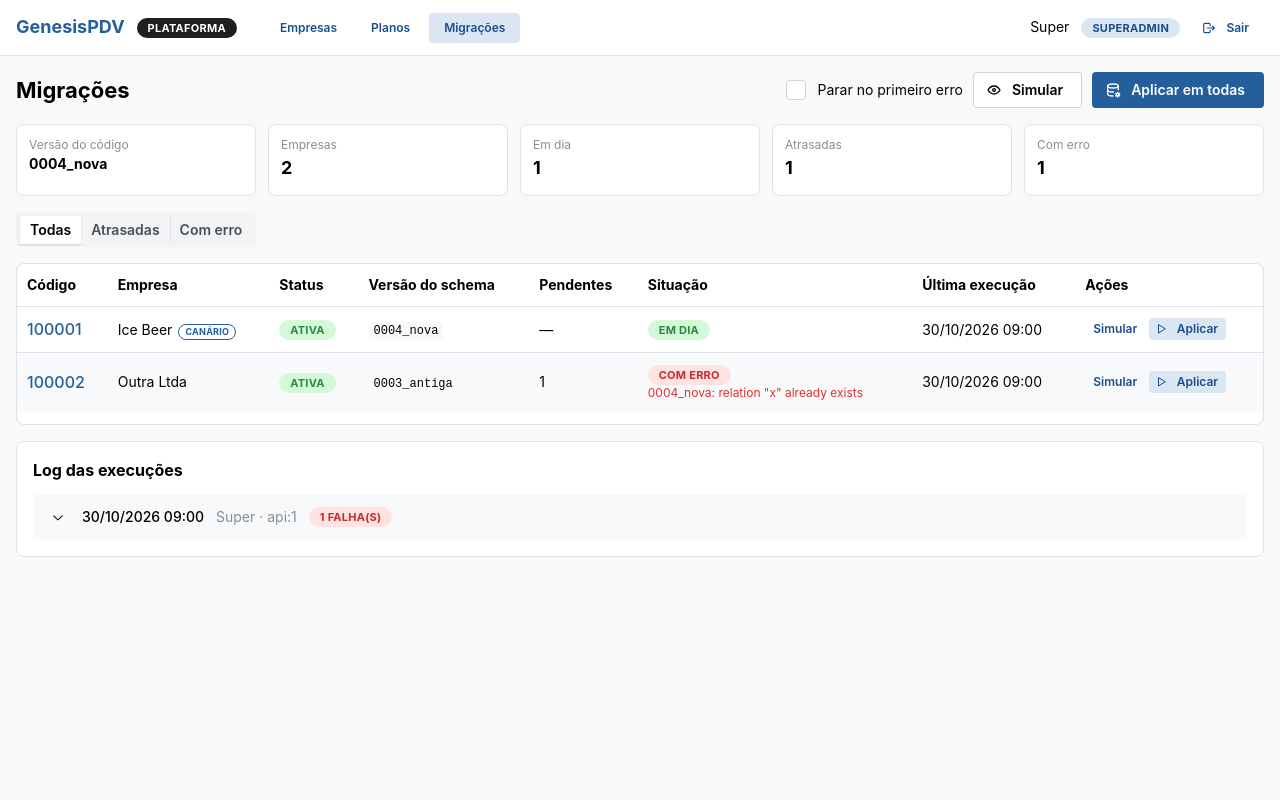
Test: painel › Migrações (ERP 19.7) › Aplicar em uma empresa confirma, envia o código e mostra o resultado
The width and height of the screenshot is (1280, 800).
Click the button with aria-label "Aplicar em 100002" at (1188, 382), box [1149,371,1226,393]
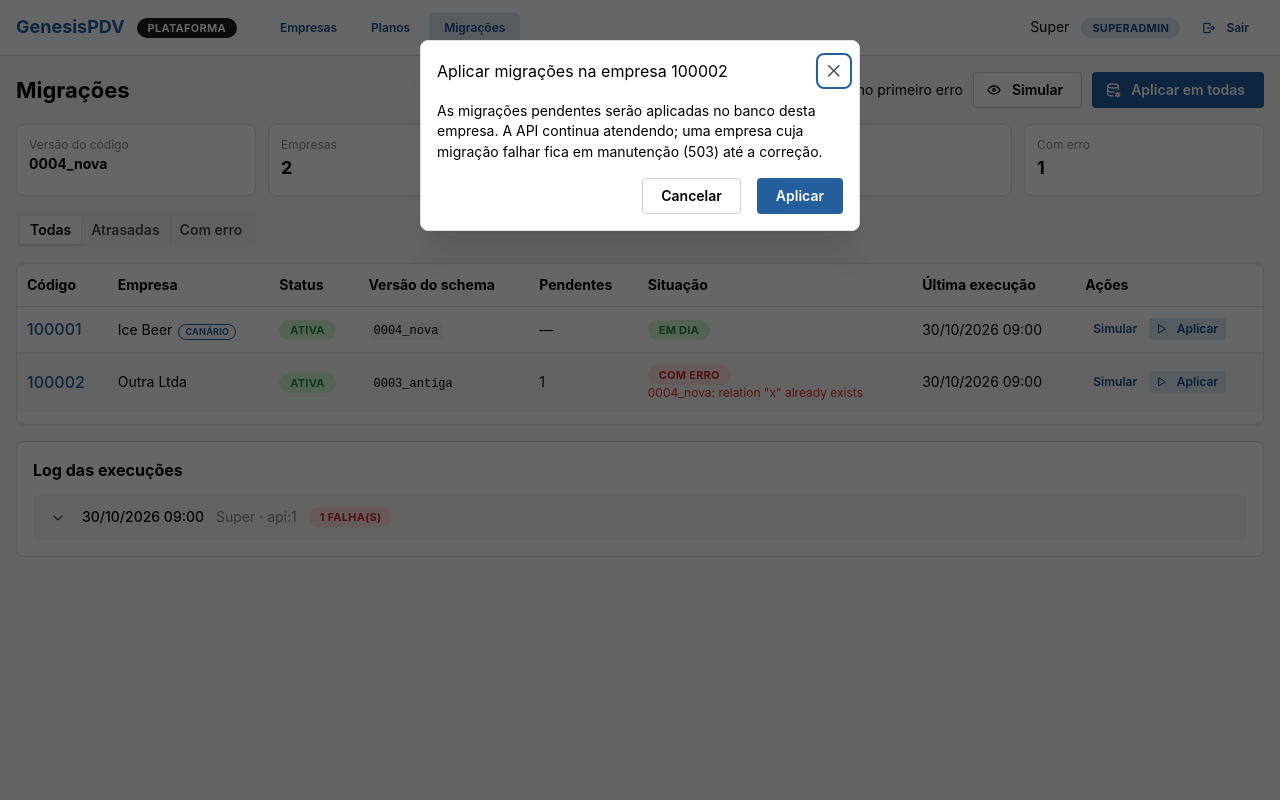
expect the dialog shows "Aplicar migrações na empresa 100002": met, box [437,61,728,81]
Click the button "Aplicar" at (800, 196), box [757,178,843,214]
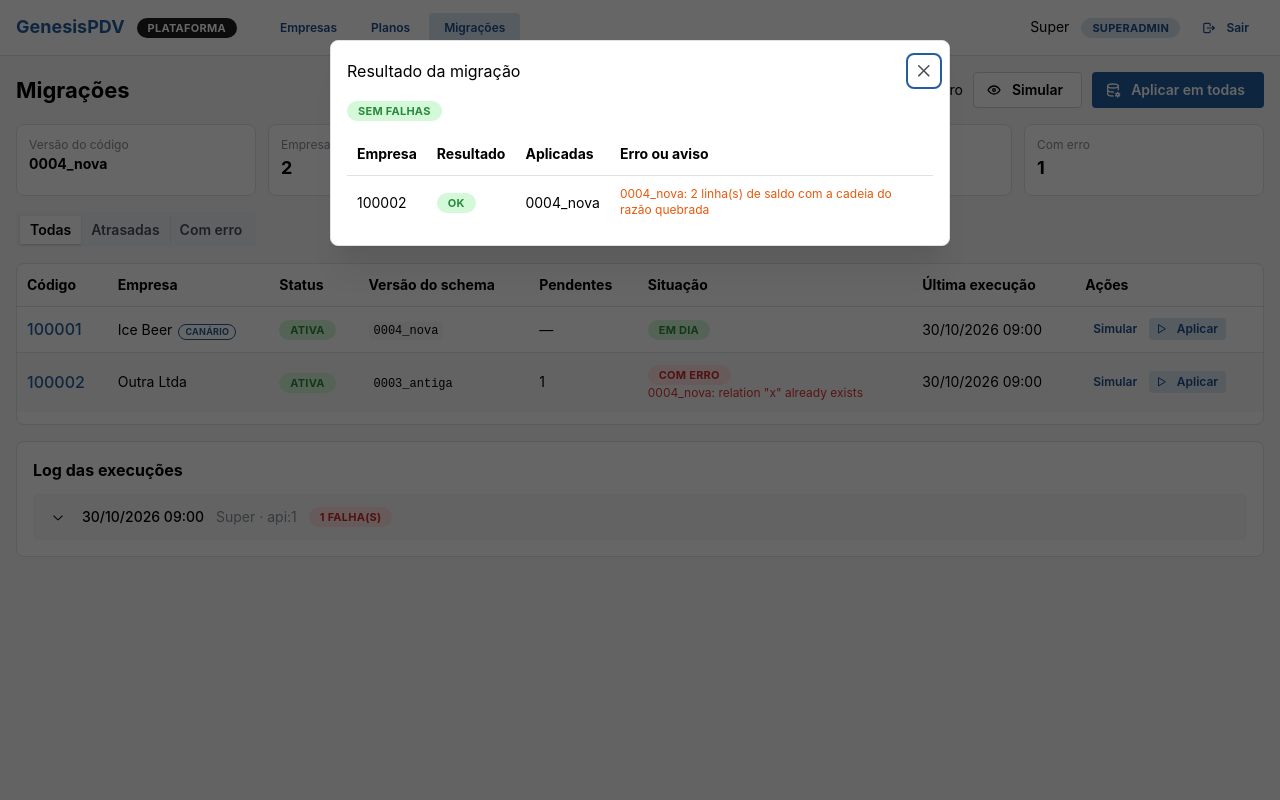
expect the dialog "Resultado da migração" shows "Sem falhas": met, box [358,104,431,118]
expect the dialog "Resultado da migração" shows "0004_nova": met, box [525,194,600,211]
expect the dialog "Resultado da migração" shows "0004_nova: 2 linha(s) de saldo com a cadeia do razão quebrada": met, box [620,186,892,218]
